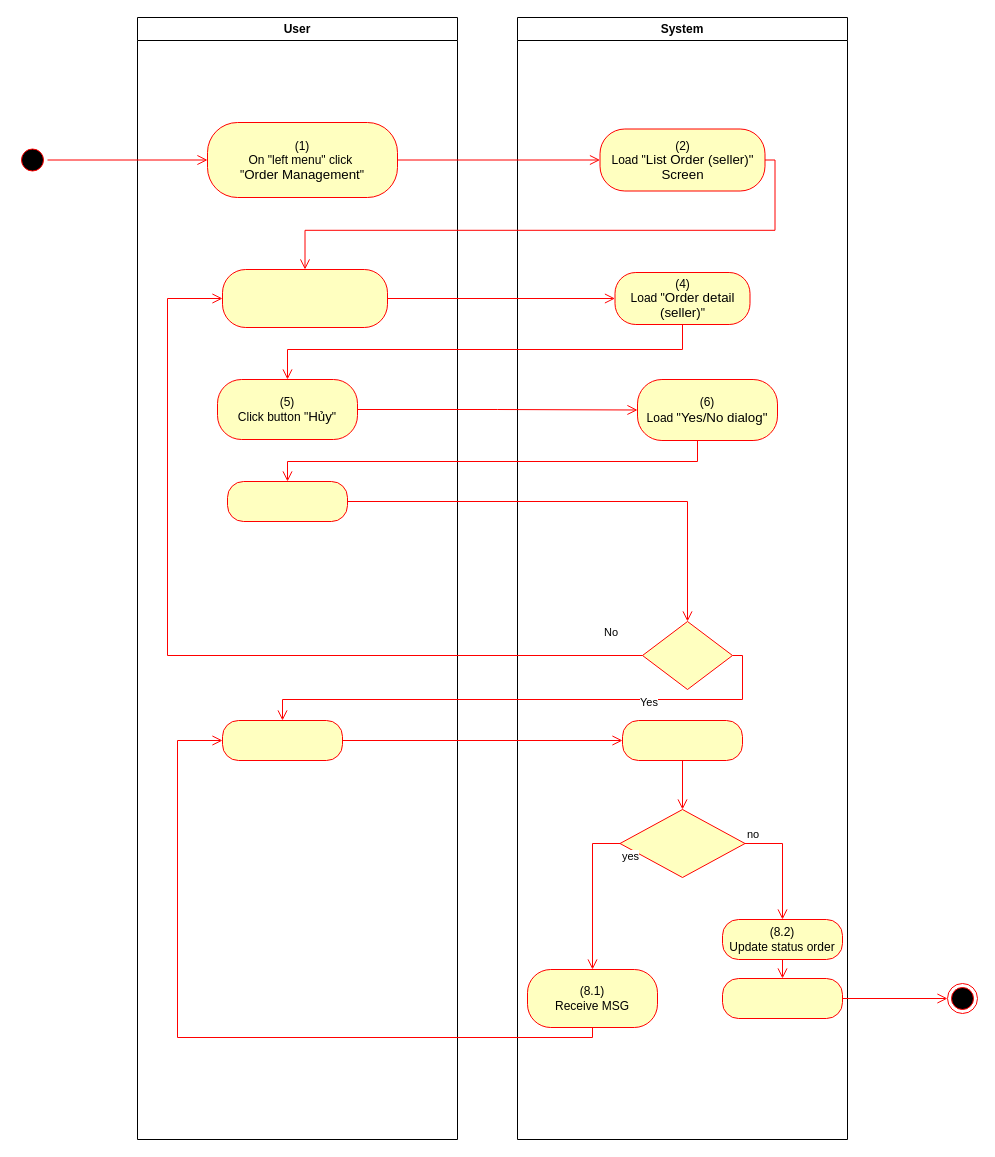
Some shapes in this 995 by 1157 pixel diagram are drawn without their labels. The shapes that lost their labels are listed below. From the top down, each one's centre as x and y in pixels, then its label:
(x=305, y=298): (3) Click on " CONFIRMED "/"WAITING" status order
(x=287, y=501): (7) Click "Yes" or "No" button
(x=282, y=740): (7.1) Giving input for reason
(x=682, y=740): (8) Validate
(x=782, y=998): (9) Update UI
